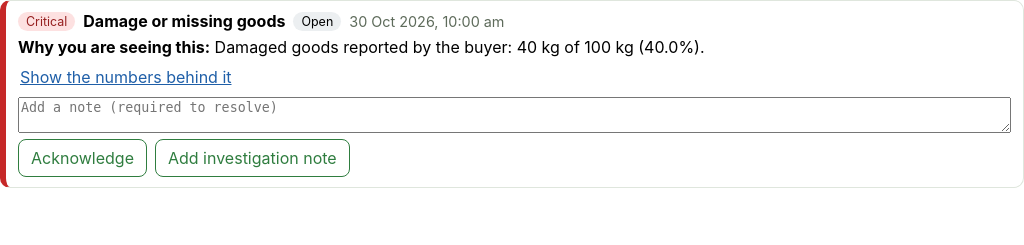
Test: the numbers behind the alert can be opened
What coordinates should you click on to do the following:
click the button "Show the numbers behind it"
I would click on:
 (126, 77)
Its box is left=18, top=63, right=234, bottom=91.
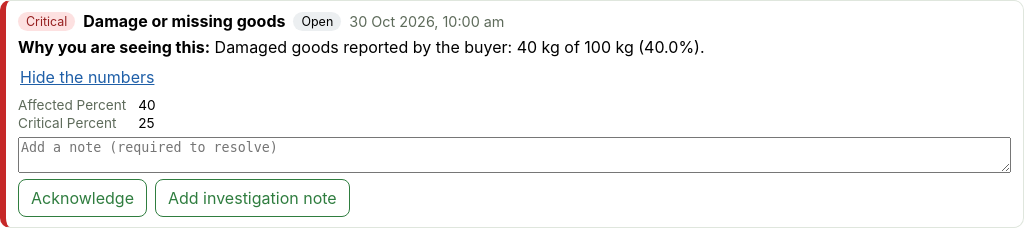
Result: the text "Affected Percent" is shown at left=18, top=97, right=126, bottom=113
Result: the text "40" is shown at left=138, top=97, right=156, bottom=113
